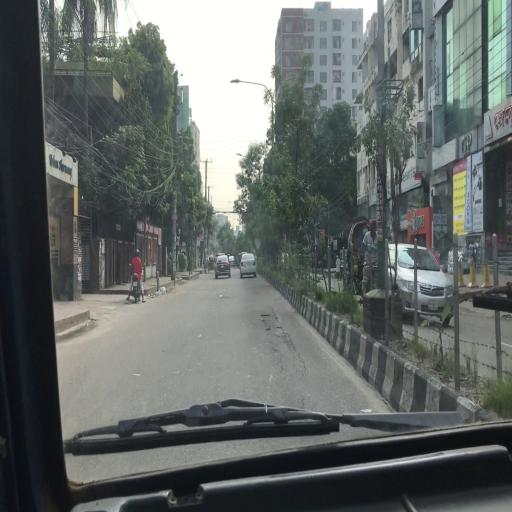car: (388, 246, 456, 321), (241, 255, 258, 277), (216, 255, 231, 278), (229, 256, 235, 267)
motorbike: (130, 263, 146, 304)
rickshaw: (345, 216, 374, 300)
